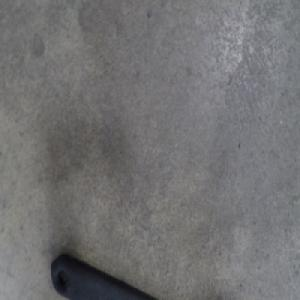AdjustableWrench: (52, 252, 159, 299)
